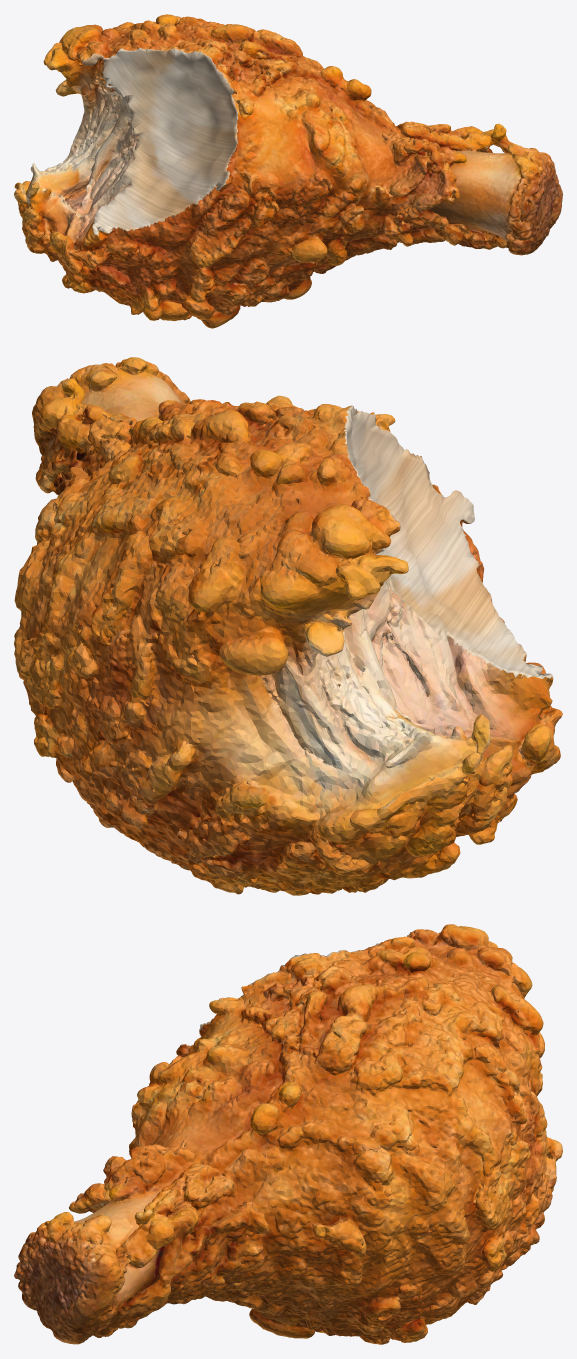
3 views of the same model, one above another, from view 1: azimuth 30°, elevation 25°; view 2: azimuth 150°, elevation 25°; view 3: azimuth 270°, elevation 25° (orthographic). The views are drawn at different scales.
Parts seen in each view (by area): view 1: Lux3D_outer_surface, Local_closed_bite_surface; view 2: Lux3D_outer_surface, Local_closed_bite_surface; view 3: Lux3D_outer_surface.
Boxes of the visible parts, x1,y1,x2,y2 form: Lux3D_outer_surface: [14, 14, 562, 328]; Local_closed_bite_surface: [82, 48, 238, 235]; Lux3D_outer_surface: [14, 357, 562, 895]; Local_closed_bite_surface: [342, 405, 553, 679]; Lux3D_outer_surface: [14, 924, 562, 1344].
Size of the model in its own units: 0.1308 by 0.0865 by 0.1176.
2 materials, 2 textured.
